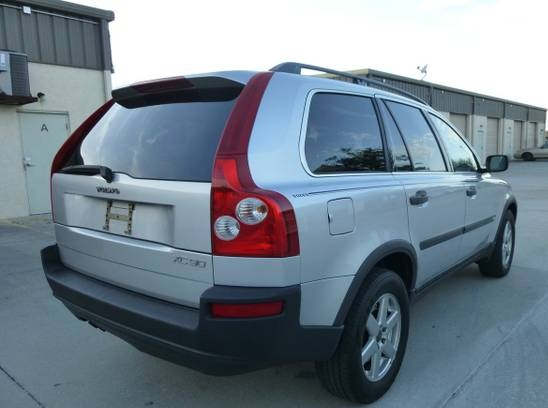volvo: (33, 60, 531, 408)
